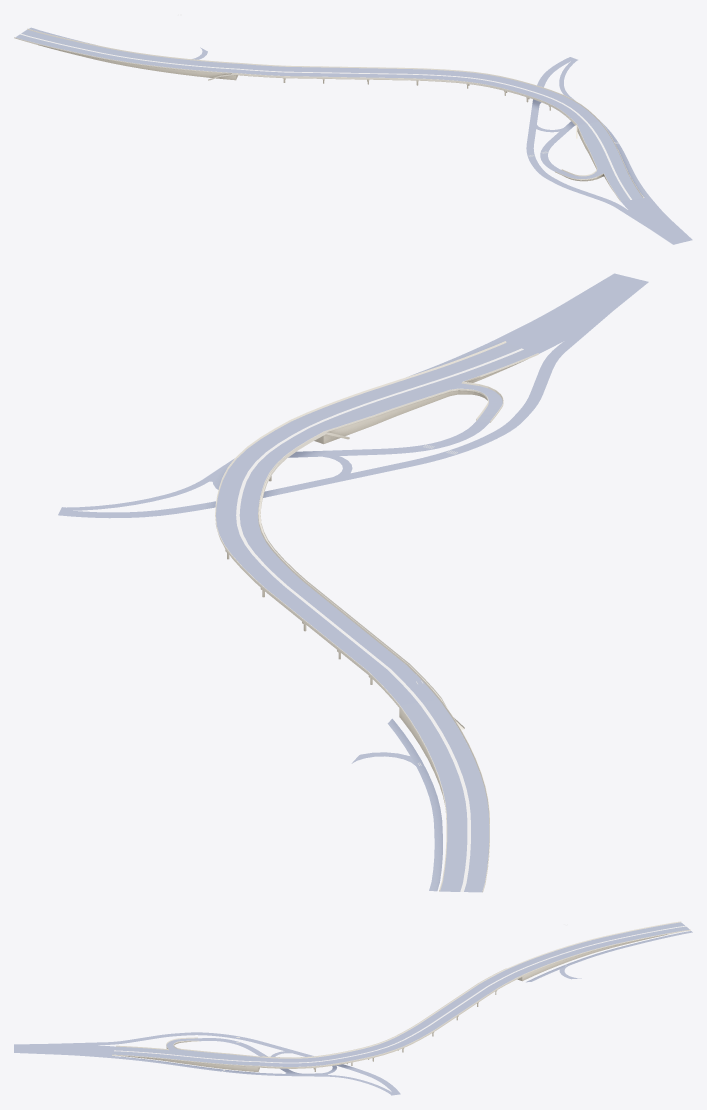
File: Nazarbaeva-Zhansugurova.glb
3 renders of one model, top to bottom at view 1: azimuth 30°, elevation 25°; view 2: azimuth 150°, elevation 25°; view 3: azimuth 270°, elevation 25°, orthographic. The views are drawn at different scales.
Parts seen in each view (by area): view 1: group_8.001, group_0.001, group_7.001; view 2: group_8.001, group_0.001, group_7.001; view 3: group_8.001, group_0.001, group_7.001.
Boxes of the visible parts, x1,y1,x2,y2 form: group_8.001: (15,27,692,244); group_0.001: (14,28,643,201); group_7.001: (20,33,631,199); group_8.001: (58,273,648,892); group_0.001: (215,341,538,892); group_7.001: (236,348,523,891); group_8.001: (14,922,692,1095); group_0.001: (112,921,690,1071); group_7.001: (114,926,685,1063).
Bounding box in the file's own units: 454 × 50 × 751.
Materials: 5 (3 with a texture image).
